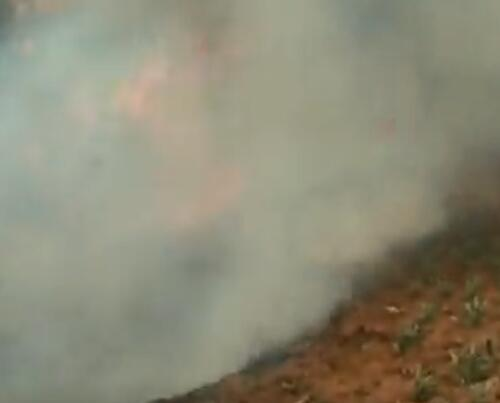yanwu: (1, 2, 499, 402)
